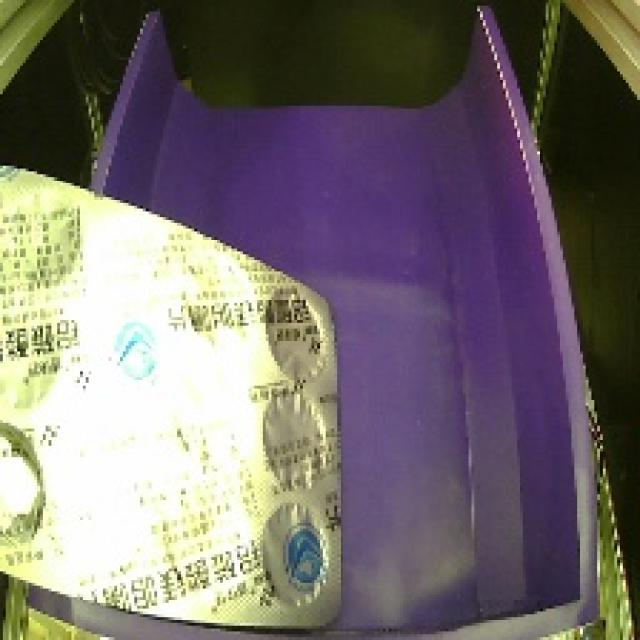med_plate: (0, 156, 352, 632)
